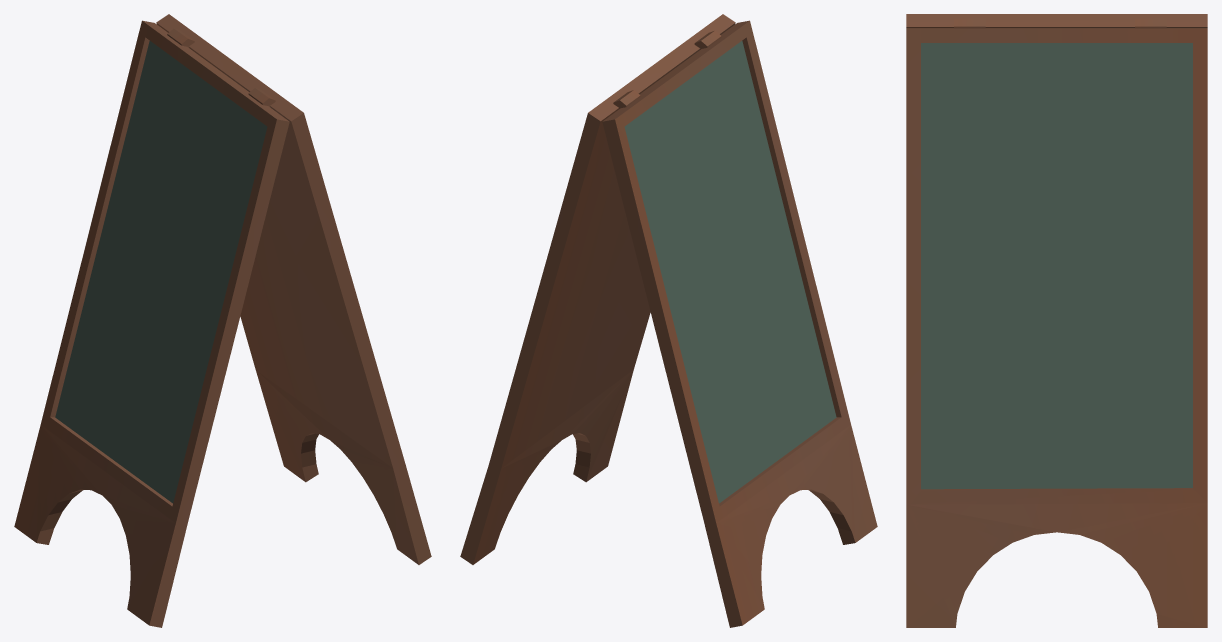
File: biencafe.fbx
3 views of the same model, side by side, from view 1: azimuth 30°, elevation 25°; view 2: azimuth 150°, elevation 25°; view 3: azimuth 270°, elevation 25° (orthographic). The views are drawn at different scales.
Parts seen in each view (by area): view 1: biencafe; view 2: biencafe; view 3: biencafe.
Boxes of the visible parts, x1,y1,x2,y2 form: biencafe: (14,14,431,627); biencafe: (460,14,877,627); biencafe: (906,14,1207,627).
Size of the model in its own units: 60.37 by 98.65 by 50.
